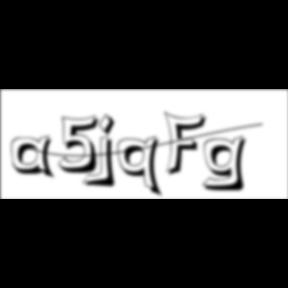5: (58, 114, 104, 176)
F: (164, 110, 212, 178)
a: (11, 135, 59, 182)
g: (202, 134, 254, 194)
j: (96, 113, 122, 191)
q: (118, 135, 166, 200)
